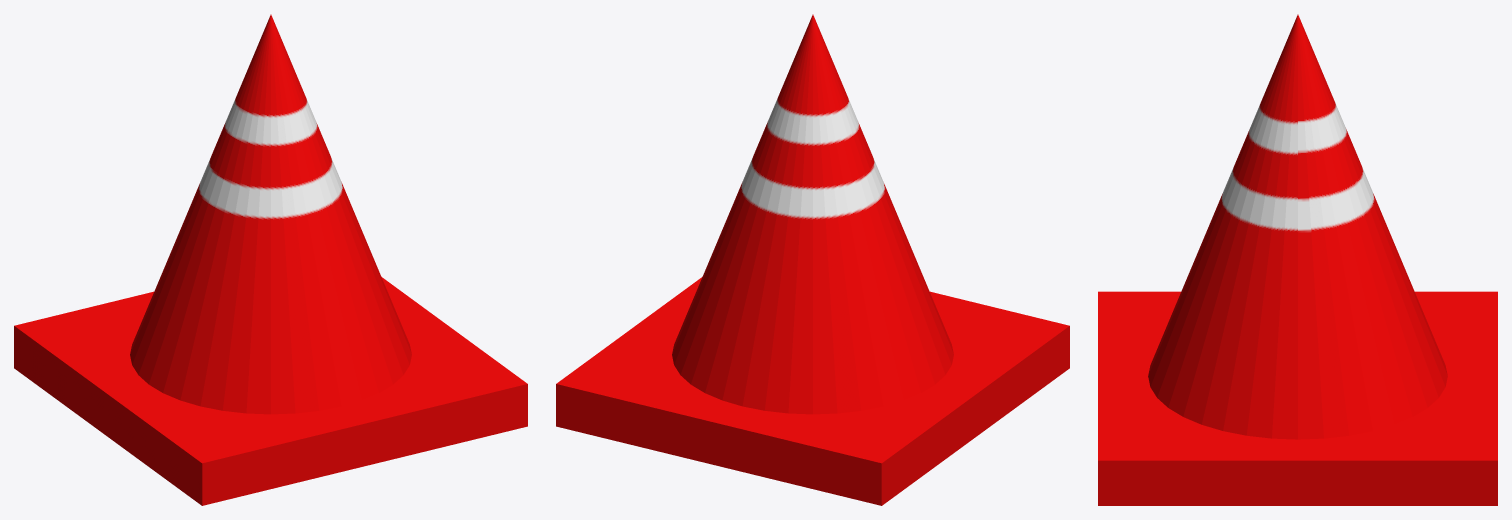
File: sankaku_cone2.dae
3 views of the same model, side by side, from view 1: azimuth 30°, elevation 25°; view 2: azimuth 150°, elevation 25°; view 3: azimuth 270°, elevation 25° (orthographic). The views are drawn at different scales.
Parts seen in each view (by area): view 1: Sankaku_Cone; view 2: Sankaku_Cone; view 3: Sankaku_Cone.
Part boxes in pixels (x1,y1,x2,y2): Sankaku_Cone: (14,14,527,505); Sankaku_Cone: (556,14,1069,505); Sankaku_Cone: (1098,14,1497,505).
Size of the model in its own units: 0.4 by 0.4 by 0.45.
1 material, 1 textured.
